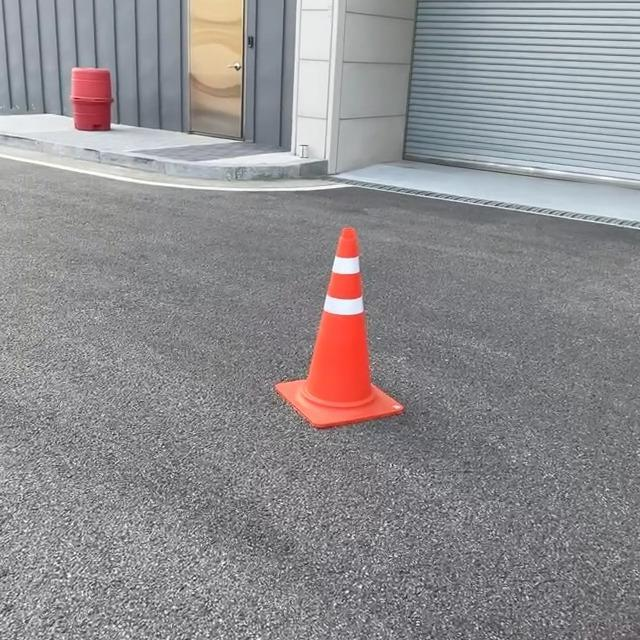fallen_object: (241, 193, 446, 451)
